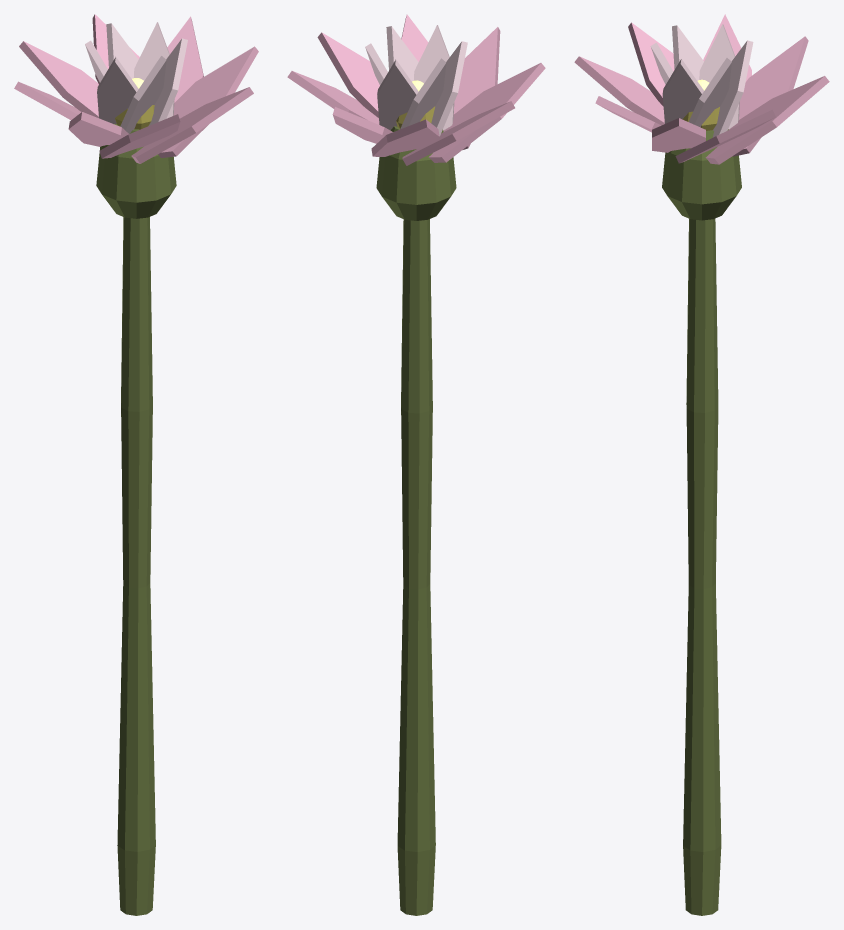
File: staff_lotus.glb
3 renders of one model, left to right at view 1: azimuth 30°, elevation 25°; view 2: azimuth 150°, elevation 25°; view 3: azimuth 270°, elevation 25°, orthographic.
Parts seen in each view (by area): view 1: Lot_Shaft, Lot_Recept, Lot_PetalO6, Lot_PetalO1, Lot_PetalO5, Lot_PetalI2, Lot_PetalI3, Lot_PetalO4, Lot_PetalI4, Lot_PetalO3, Lot_PetalO7, Lot_PetalI5 (+3 smaller); view 2: Lot_Shaft, Lot_Recept, Lot_PetalO3, Lot_PetalO6, Lot_PetalO4, Lot_PetalI0, Lot_PetalO2, Lot_PetalO1, Lot_PetalO7, Lot_PetalI2, Lot_PetalI1, Lot_PetalI3 (+3 smaller); view 3: Lot_Shaft, Lot_Recept, Lot_PetalO1, Lot_PetalO0, Lot_PetalO4, Lot_PetalI4, Lot_PetalO3, Lot_PetalI0, Lot_PetalO6, Lot_PetalI5, Lot_PetalI1, Lot_PetalO7 (+2 smaller).
Part boxes in pixels (x1,y1,x2,y2): Lot_Shaft: (117, 217, 155, 915); Lot_Recept: (96, 124, 176, 218); Lot_PetalO6: (158, 46, 258, 157); Lot_PetalO1: (19, 41, 98, 117); Lot_PetalO5: (131, 87, 253, 163); Lot_PetalI2: (97, 57, 138, 123); Lot_PetalI3: (120, 56, 166, 133); Lot_PetalO4: (99, 114, 180, 158); Lot_PetalI4: (148, 38, 187, 125); Lot_PetalO3: (68, 112, 128, 146); Lot_PetalO7: (167, 16, 203, 102); Lot_PetalI5: (134, 22, 174, 118); Lot_Shaft: (397, 219, 435, 915); Lot_Recept: (376, 126, 456, 220); Lot_PetalO3: (428, 63, 545, 162); Lot_PetalO6: (317, 32, 379, 117); Lot_PetalO4: (453, 27, 500, 149); Lot_PetalI0: (377, 59, 418, 130); Lot_PetalO2: (402, 101, 514, 165); Lot_PetalO1: (371, 119, 439, 156); Lot_PetalO7: (287, 71, 379, 124); Lot_PetalI2: (431, 41, 467, 135); Lot_PetalI1: (400, 58, 446, 129); Lot_PetalI3: (414, 25, 454, 130); Lot_Shaft: (683, 218, 721, 915); Lot_Recept: (662, 129, 741, 220); Lot_PetalO1: (733, 36, 808, 156); Lot_PetalO0: (705, 76, 829, 164); Lot_PetalO4: (574, 56, 664, 125); Lot_PetalI4: (662, 59, 703, 123); Lot_PetalO3: (628, 22, 674, 106); Lot_PetalI0: (713, 40, 753, 137); Lot_PetalO6: (652, 118, 705, 152); Lot_PetalI5: (688, 58, 731, 127); Lot_PetalI1: (699, 24, 739, 129); Lot_PetalO7: (675, 109, 775, 163).
Bounding box in the file's own units: 0.4974 × 1.86 × 0.4974.
